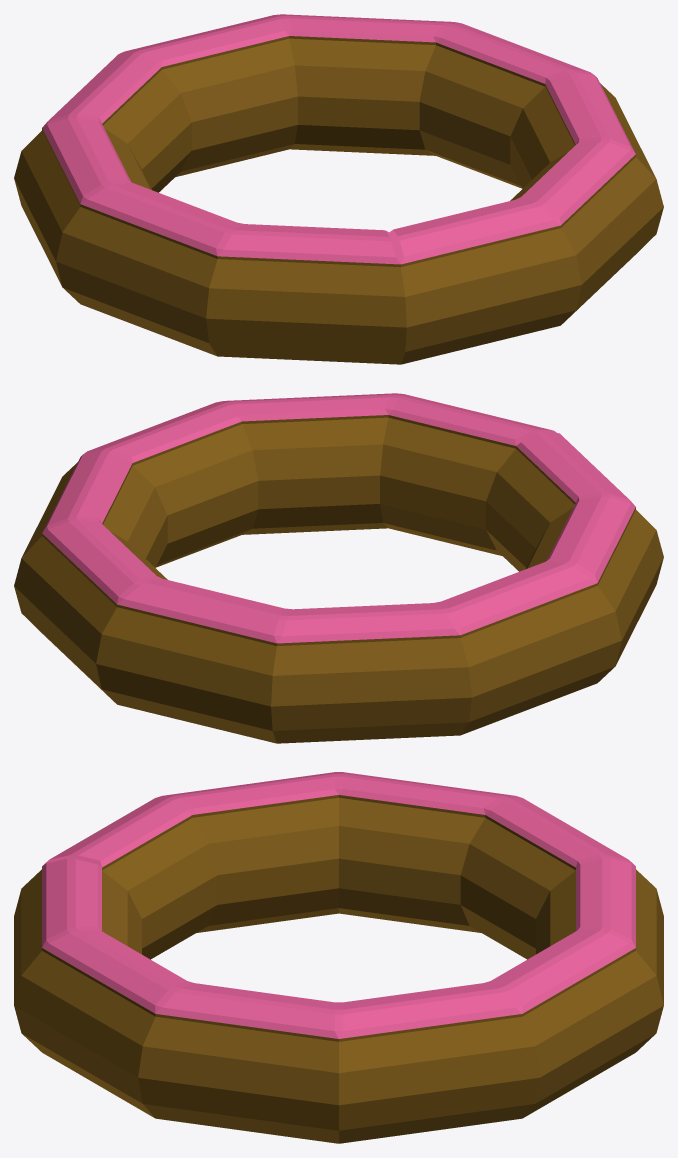
The model's file is Something.fbx.
The picture shows the model from 3 angles, top to bottom: view 1: azimuth 30°, elevation 25°; view 2: azimuth 150°, elevation 25°; view 3: azimuth 270°, elevation 25°; orthographic projection. The views are drawn at different scales.
Visible parts, largest first — view 1: Torus.002; view 2: Torus.002; view 3: Torus.002.
Part boxes in pixels (x1,y1,x2,y2): Torus.002: [14, 14, 663, 364]; Torus.002: [14, 393, 663, 743]; Torus.002: [14, 772, 663, 1143].
Size of the model in its own units: 250 by 52.18 by 238.
